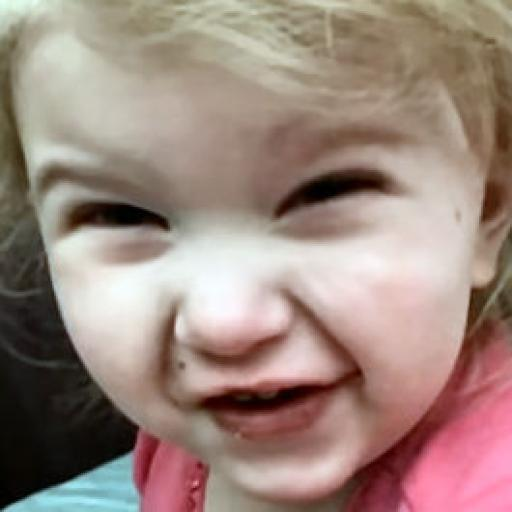Autism: (7, 13, 512, 510)
